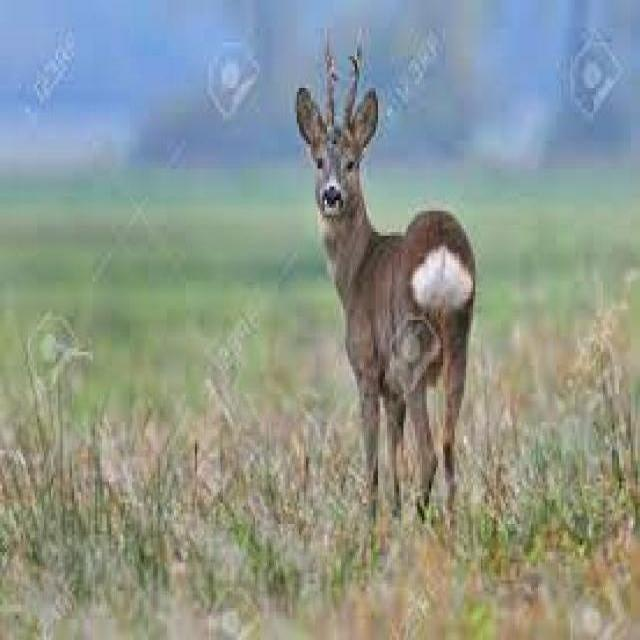deer: (278, 21, 480, 520)
